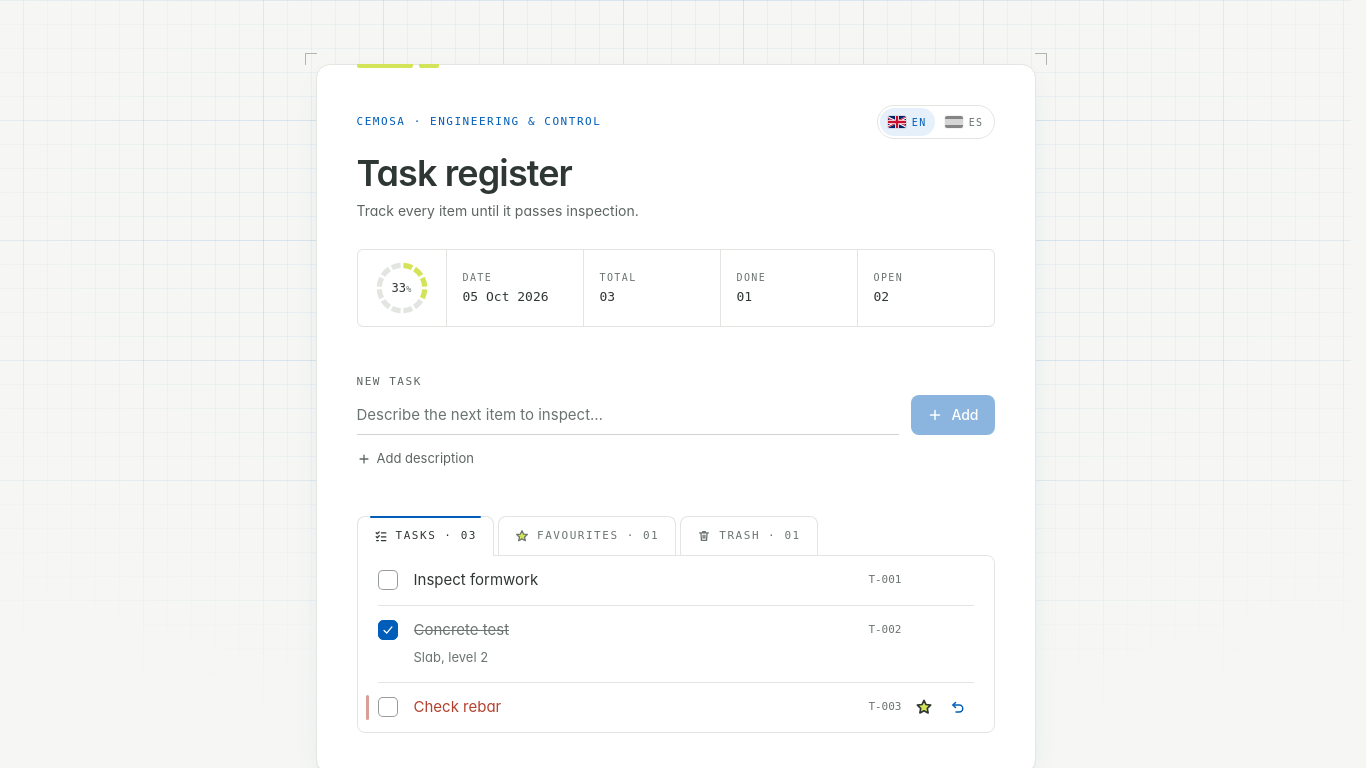
it: trash (task 2) › restores a task from the tasks view, keeping its other fields
Expected: the text "Inspect formwork" is shown, 414,570 -> 538,589
Step 1. Click the button named "Restore from the trash: Check rebar" → (958, 707), box 942,691 -> 974,723
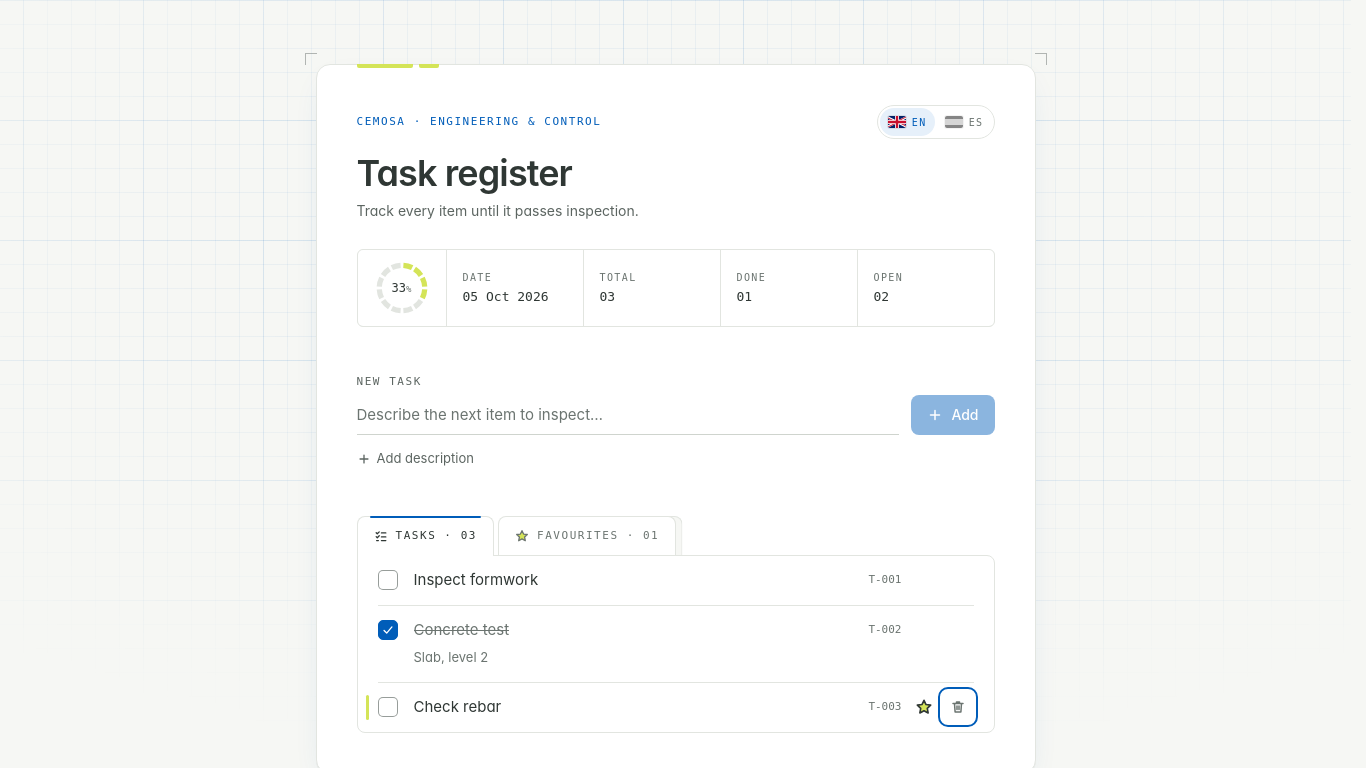
Result: the button named "Move to the trash: Check rebar" is shown at 942,691 -> 974,723
